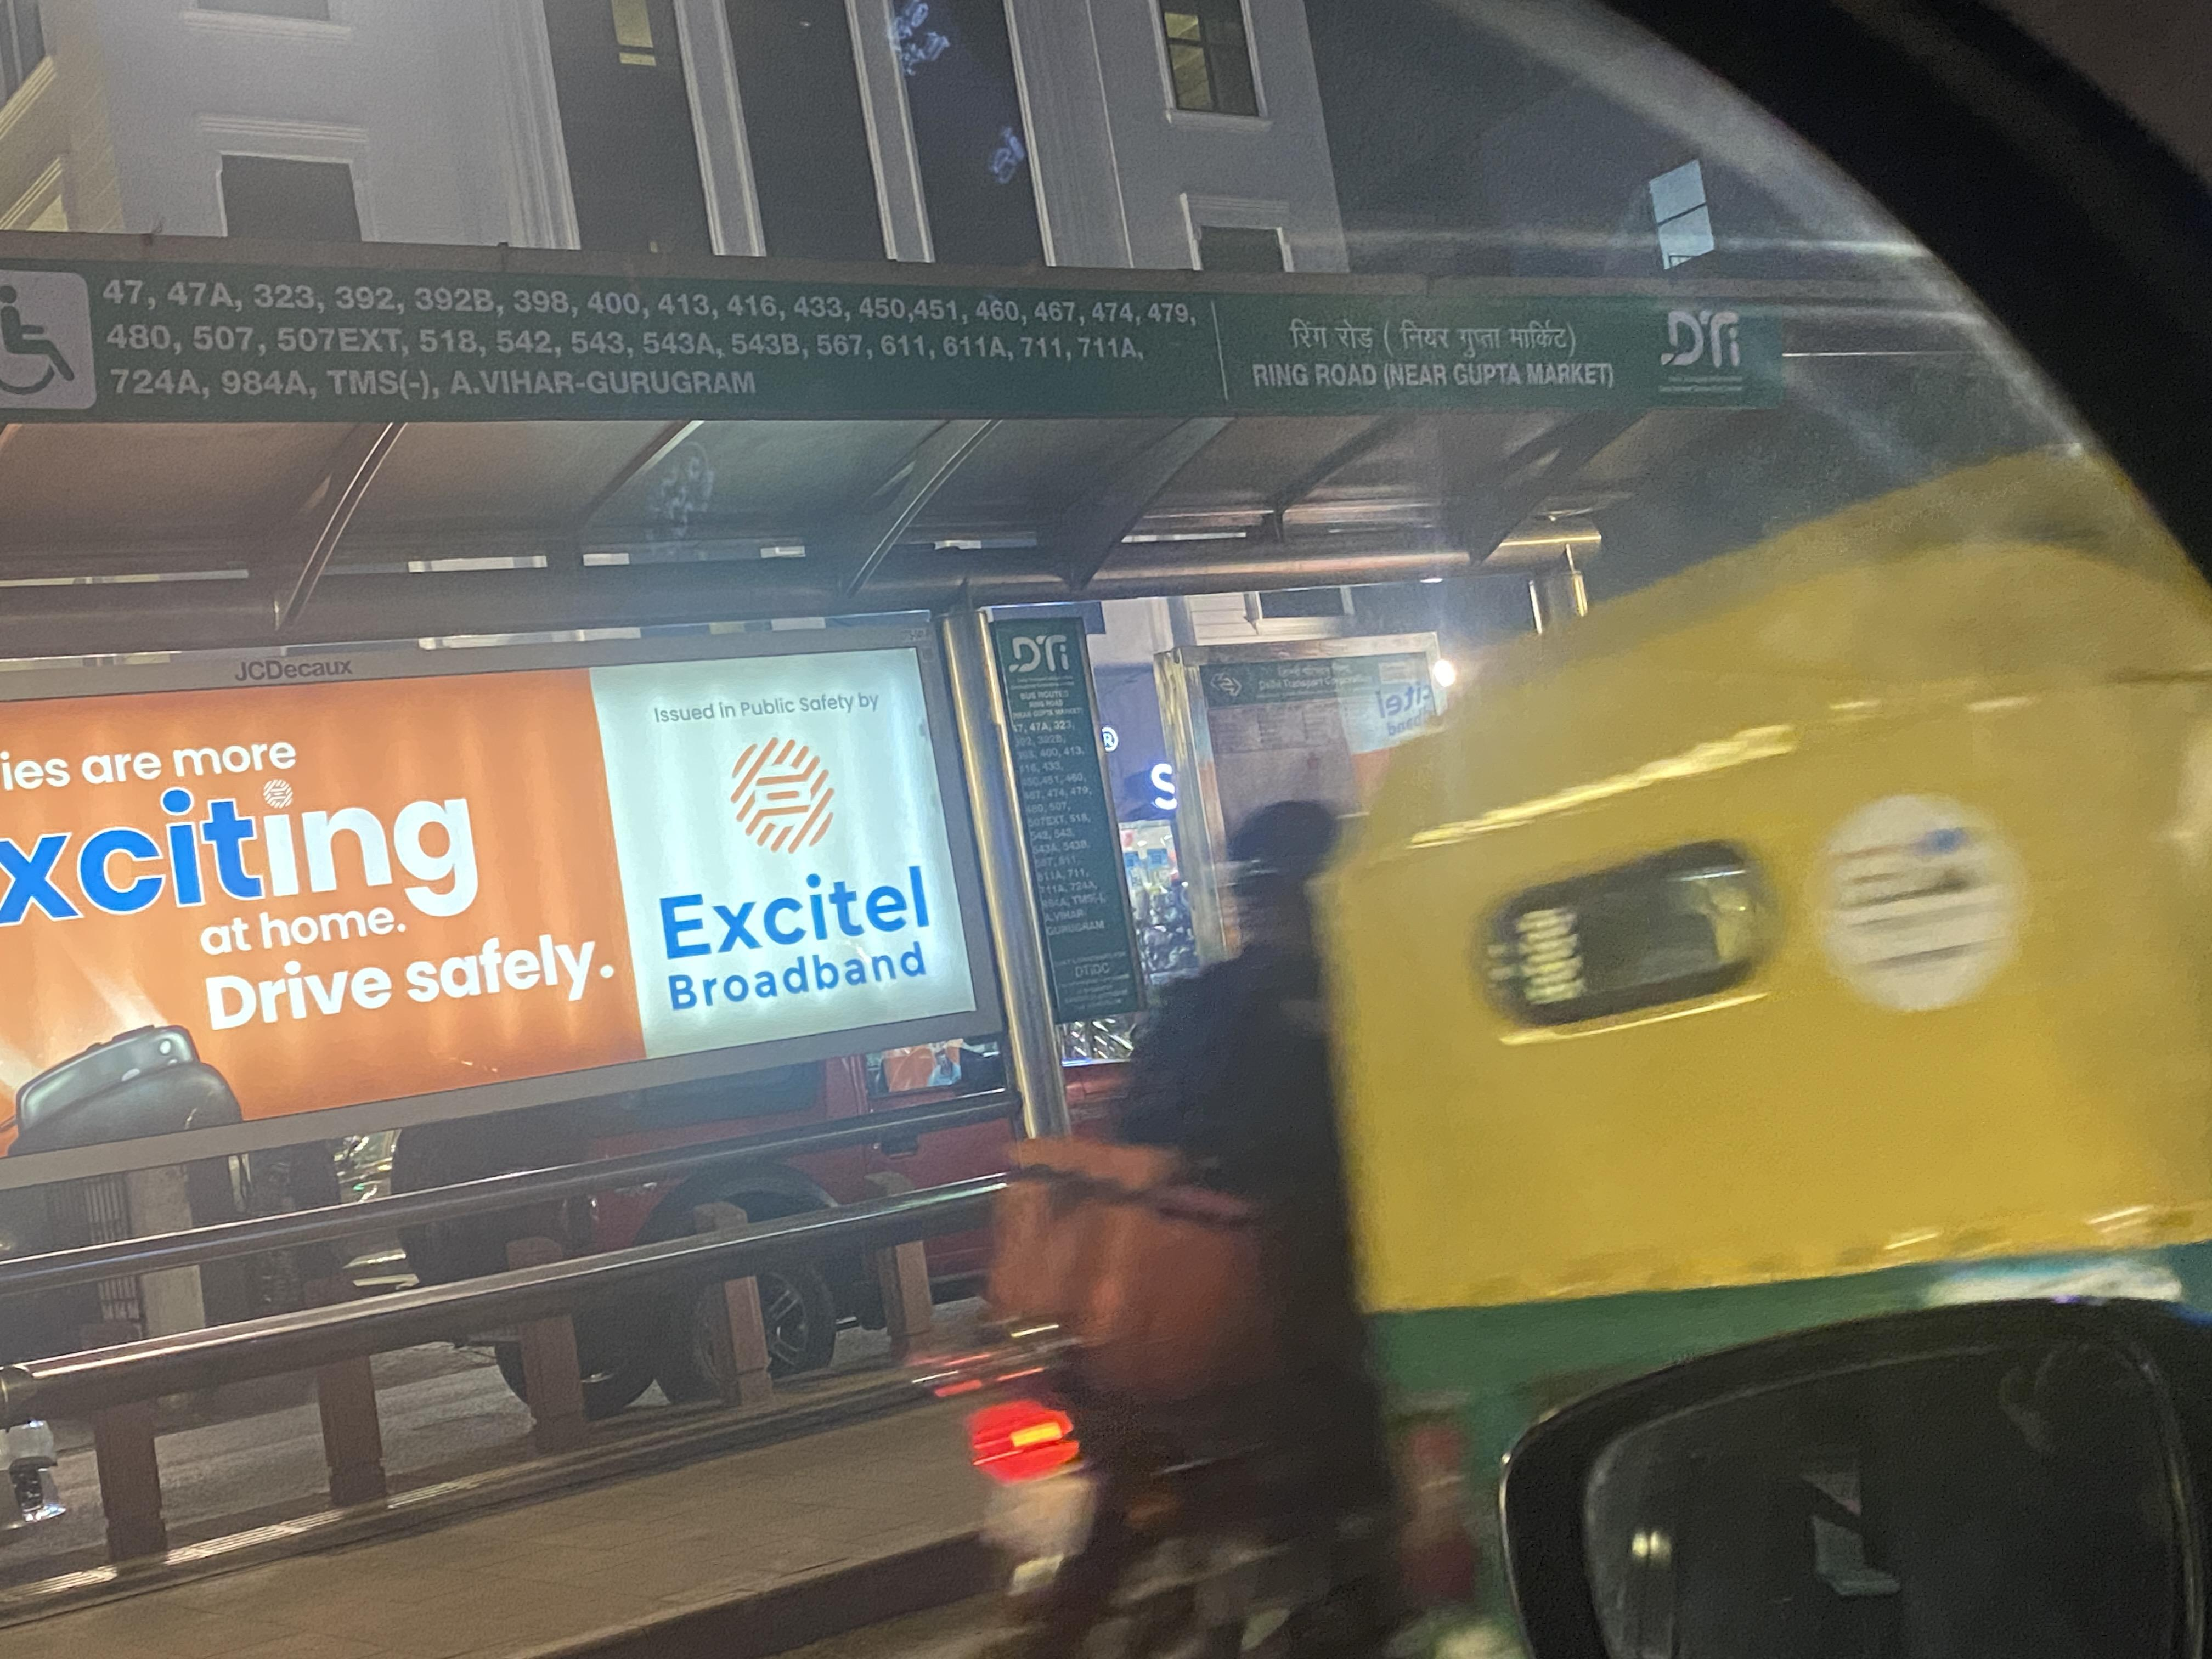Bus-stop-board: (0, 242, 1810, 434)
